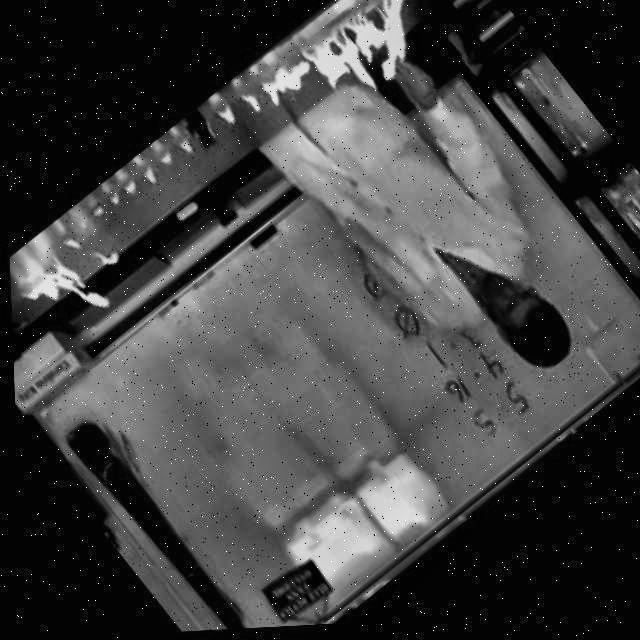Fire: (3, 81, 312, 352), (249, 0, 458, 162)
